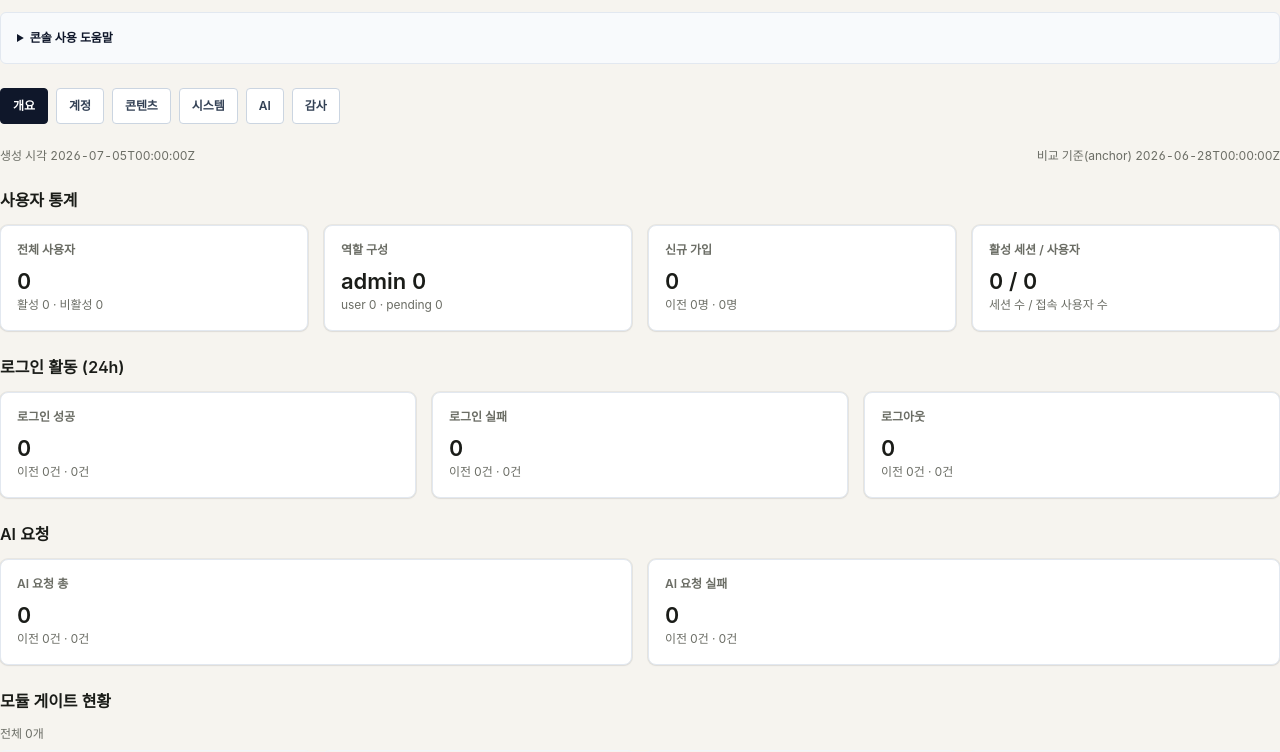
Test: 세션 tab does not degrade when an unrelated initial resource fails
Click the tab "계정": click(80, 106) top-left (56, 88), bottom-right (104, 124)
(page scrolled)
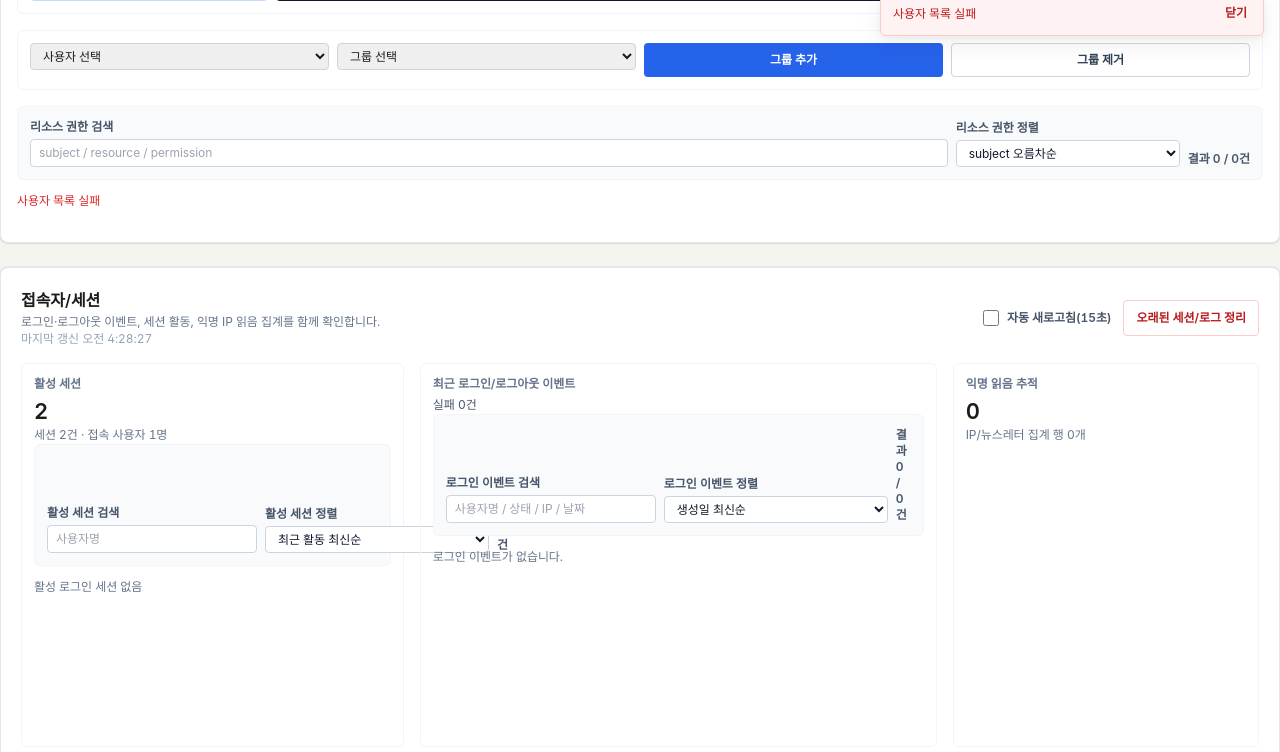
Expected: the text "세션 2건 · 접속 사용자 1명" is shown, top-left (34, 427), bottom-right (167, 442)
